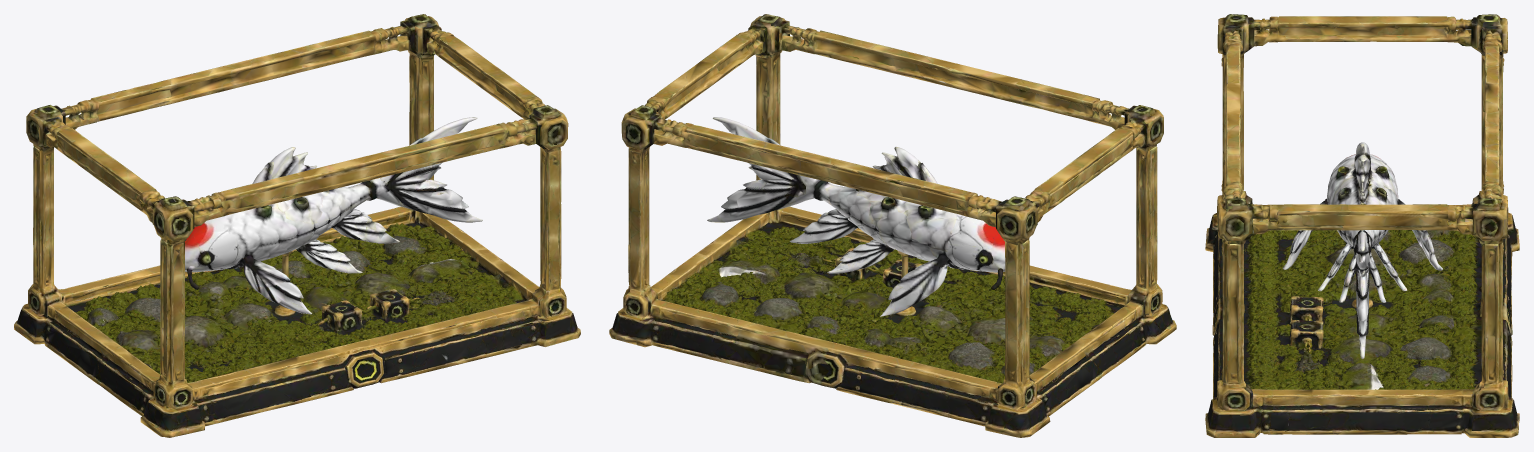
File: homegraphic.glb
The picture shows the model from 3 angles, left to right: view 1: azimuth 30°, elevation 25°; view 2: azimuth 150°, elevation 25°; view 3: azimuth 270°, elevation 25°; orthographic projection.
Bounding box in the file's own units: 1.9 × 0.9659 × 1.22.
Materials: 1 (1 with a texture image).
